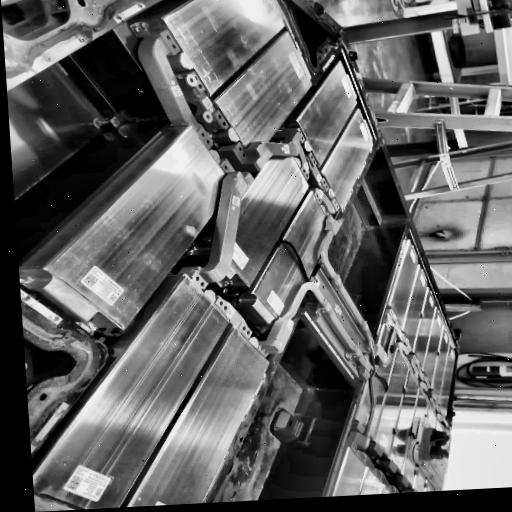battery_module: (32, 276, 233, 512), (42, 125, 237, 329), (125, 327, 271, 507), (211, 144, 312, 287), (213, 30, 313, 153), (253, 192, 339, 330), (160, 0, 284, 90), (296, 60, 359, 169), (321, 109, 374, 212)
busbar: (133, 27, 452, 495), (231, 159, 342, 321)
